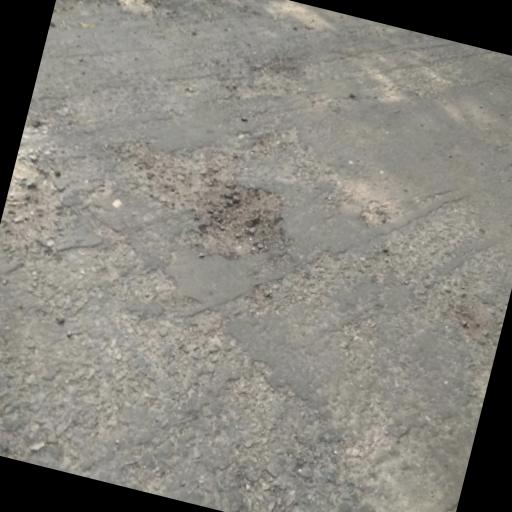pothole: (192, 170, 302, 272)
